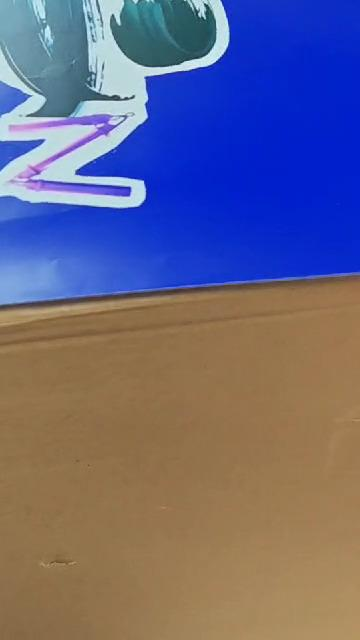B_R1: (0, 0, 223, 239)
